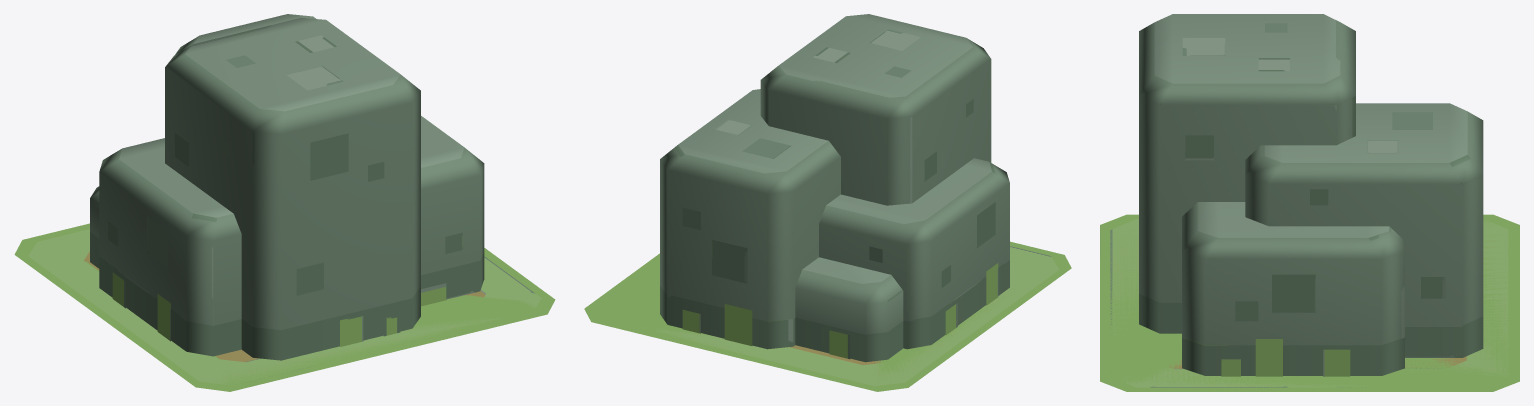
File: B_grass1_rock01.fbx
3 renders of one model, left to right at view 1: azimuth 30°, elevation 25°; view 2: azimuth 150°, elevation 25°; view 3: azimuth 270°, elevation 25°, orthographic. The views are drawn at different scales.
Parts seen in each view (by area): view 1: model 1, model; view 2: model 1, model; view 3: model 1, model.
Part boxes in pixels (x1=…): model 1: x1=14, y1=14, x2=555, y2=391; model: x1=28, y1=228, x2=541, y2=384; model 1: x1=584, y1=14, x2=1071, y2=391; model: x1=641, y1=246, x2=1059, y2=386; model 1: x1=1100, y1=14, x2=1519, y2=391; model: x1=1110, y1=219, x2=1509, y2=387.
Bounding box in the file's own units: 3.51 × 2.28 × 3.51.
